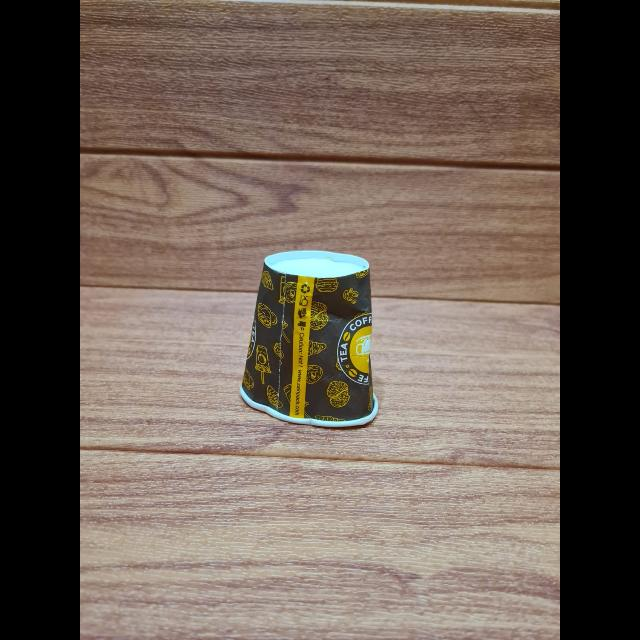trash: (243, 251, 381, 423)
